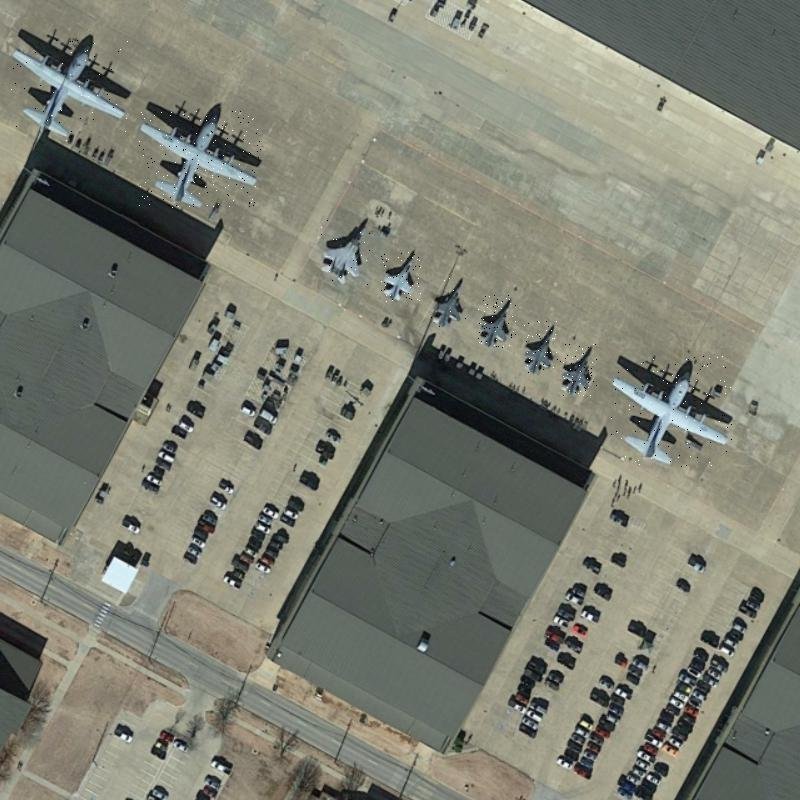A13: (318, 220, 371, 286)
A2: (611, 355, 732, 467), (11, 39, 130, 142), (139, 111, 261, 208)
A5: (381, 249, 421, 302), (476, 295, 516, 348), (559, 344, 597, 396), (430, 274, 466, 328), (523, 321, 558, 373)
